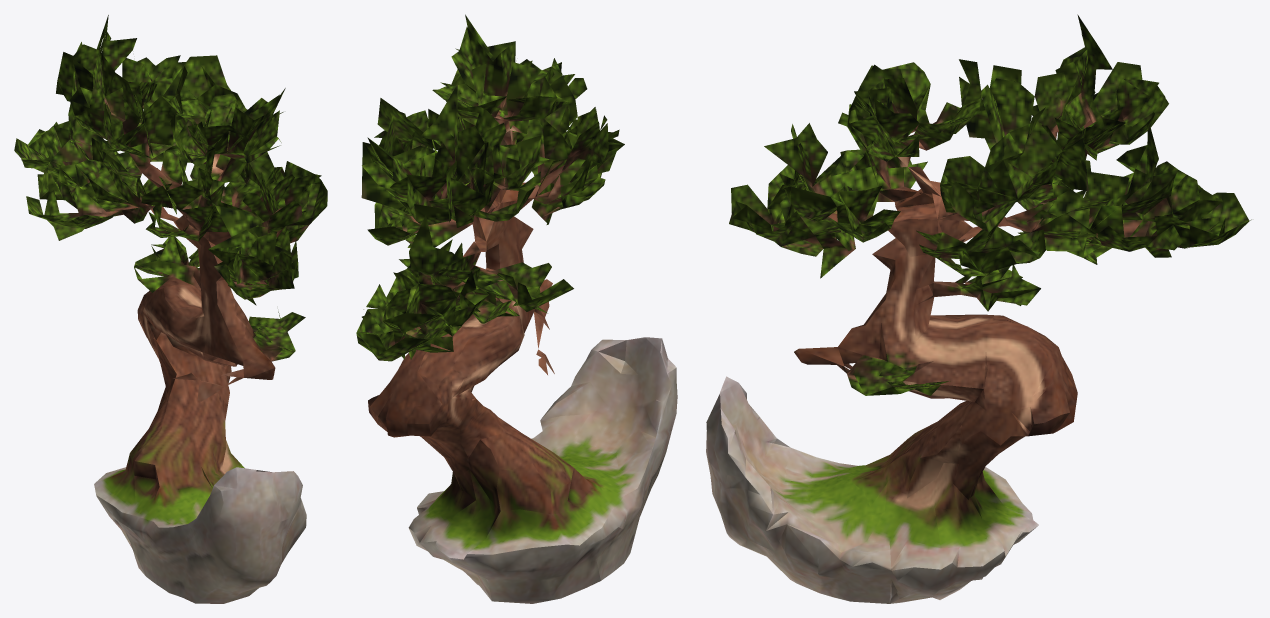
File: bonsai.glb
3 views of the same model, side by side, from view 1: azimuth 30°, elevation 25°; view 2: azimuth 150°, elevation 25°; view 3: azimuth 270°, elevation 25° (orthographic). The views are drawn at different scales.
Parts seen in each view (by area): view 1: mesh; view 2: mesh; view 3: mesh.
Boxes of the visible parts, <box> form: mesh: <box>14,15,327,603</box>; mesh: <box>356,14,677,603</box>; mesh: <box>706,14,1251,603</box>.
Bounding box in the file's own units: 0.3396 × 0.763 × 0.6795.
1 material, 1 textured.
